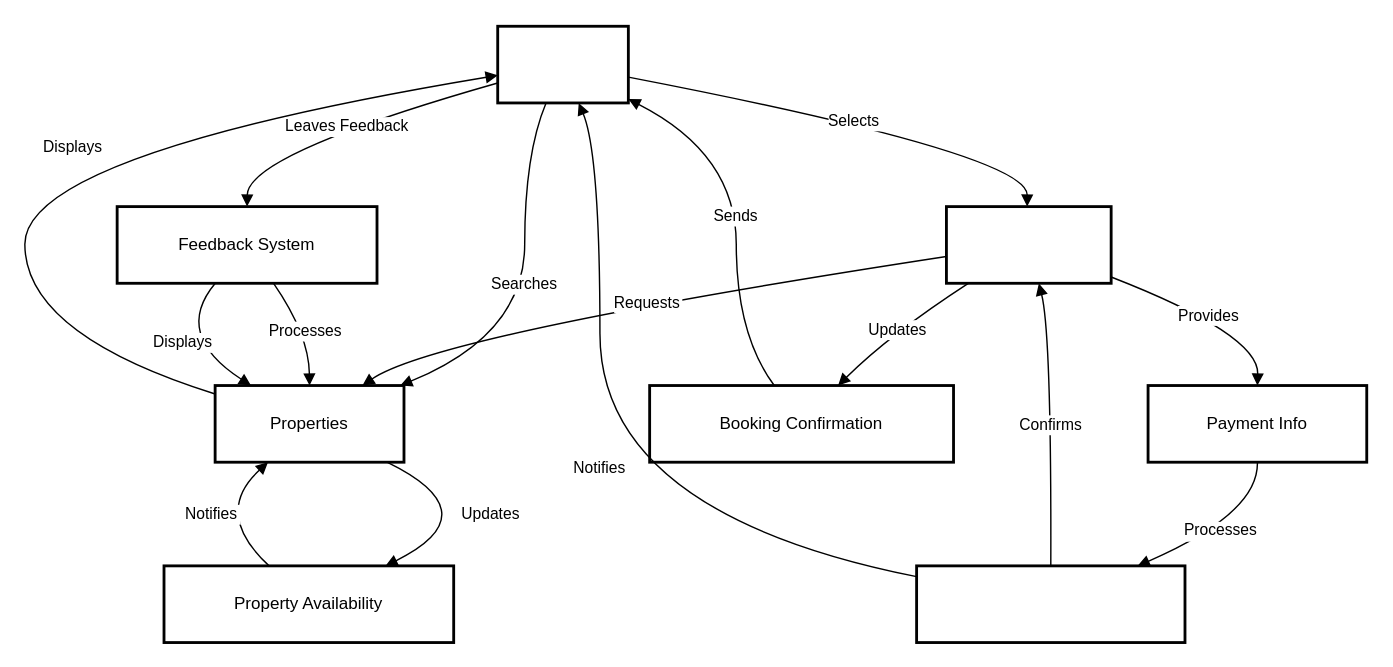
Image size: 1393x667. Some labels were removed from this diagram. The shapes that lost their labels are listed below. From the top down, each one's centre as x and y in pixels, then its label:
At pixel 562 64: "User".
At pixel 1028 244: "Booking".
At pixel 1050 603: "Payment Gateway".
